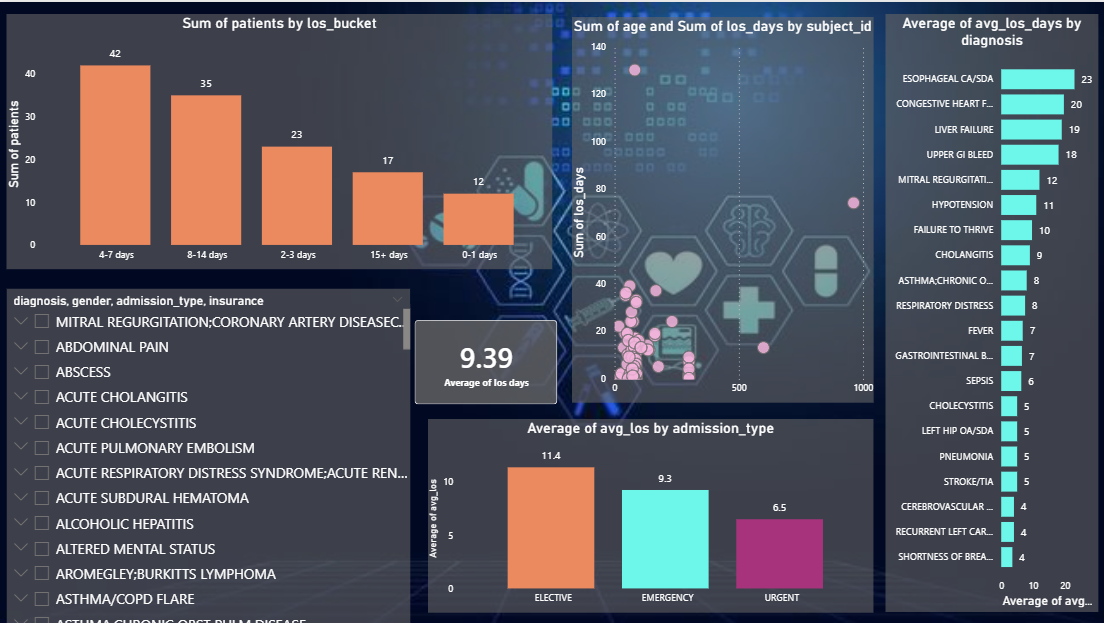

The dashboard page shown, as its layout file describes it:
{"tool":"powerbi","page":{"name":"Length_of_stay","canvas":[1280,720],"ordinal":2},"visuals":[{"type":"clusteredColumnChart","fields":{"Category":["08_los_distribution.los_bucket"],"Y":["Sum(08_los_distribution.patients)"]},"box":[12.1,13.8,627.6,293.1],"z":0},{"type":"clusteredBarChart","fields":{"Y":["Avg(02_mortality_by_diagnosis.avg_los_days)"],"Category":["02_mortality_by_diagnosis.diagnosis"]},"box":[1022.8,14.3,245,687.1],"z":1000},{"type":"columnChart","fields":{"Category":["06_admission_type.admission_type"],"Y":["Avg(06_admission_type.avg_los)"]},"box":[496.6,479.3,512.1,222.4],"z":2000},{"type":"scatterChart","fields":{"Category":["01_main_data.subject_id"],"X":["Sum(01_main_data.age)"],"Y":["Sum(01_main_data.los_days)"]},"box":[662.1,17.2,346.6,443.1],"z":3000},{"type":"cardVisual","fields":{"Data":["Avg(02_mortality_by_diagnosis.avg_los_days)"]},"box":[463.8,348.3,198.3,131],"z":4000},{"type":"slicer","fields":{"Values":["01_main_data.diagnosis","01_main_data.gender","01_main_data.admission_type","01_main_data.insurance"]},"box":[12.1,329.3,463.8,391.4],"z":5000}]}

Visuals, with their boxes in screenshot pixels (x1, y1, x2, y2), scaled from the page's 1280x720 canvas onto the 1104x623 screenshot:
clusteredColumnChart - 08_los_distribution.los_bucket x Sum(08_los_distribution.patients): pyautogui.locateOnScreen(10, 12, 552, 266)
clusteredBarChart - Avg(02_mortality_by_diagnosis.avg_los_days) x 02_mortality_by_diagnosis.diagnosis: pyautogui.locateOnScreen(882, 12, 1093, 607)
columnChart - 06_admission_type.admission_type x Avg(06_admission_type.avg_los): pyautogui.locateOnScreen(428, 415, 870, 607)
scatterChart - 01_main_data.subject_id x Sum(01_main_data.age): pyautogui.locateOnScreen(571, 15, 870, 398)
cardVisual - Avg(02_mortality_by_diagnosis.avg_los_days): pyautogui.locateOnScreen(400, 301, 571, 415)
slicer - 01_main_data.diagnosis x 01_main_data.gender: pyautogui.locateOnScreen(10, 285, 410, 622)
